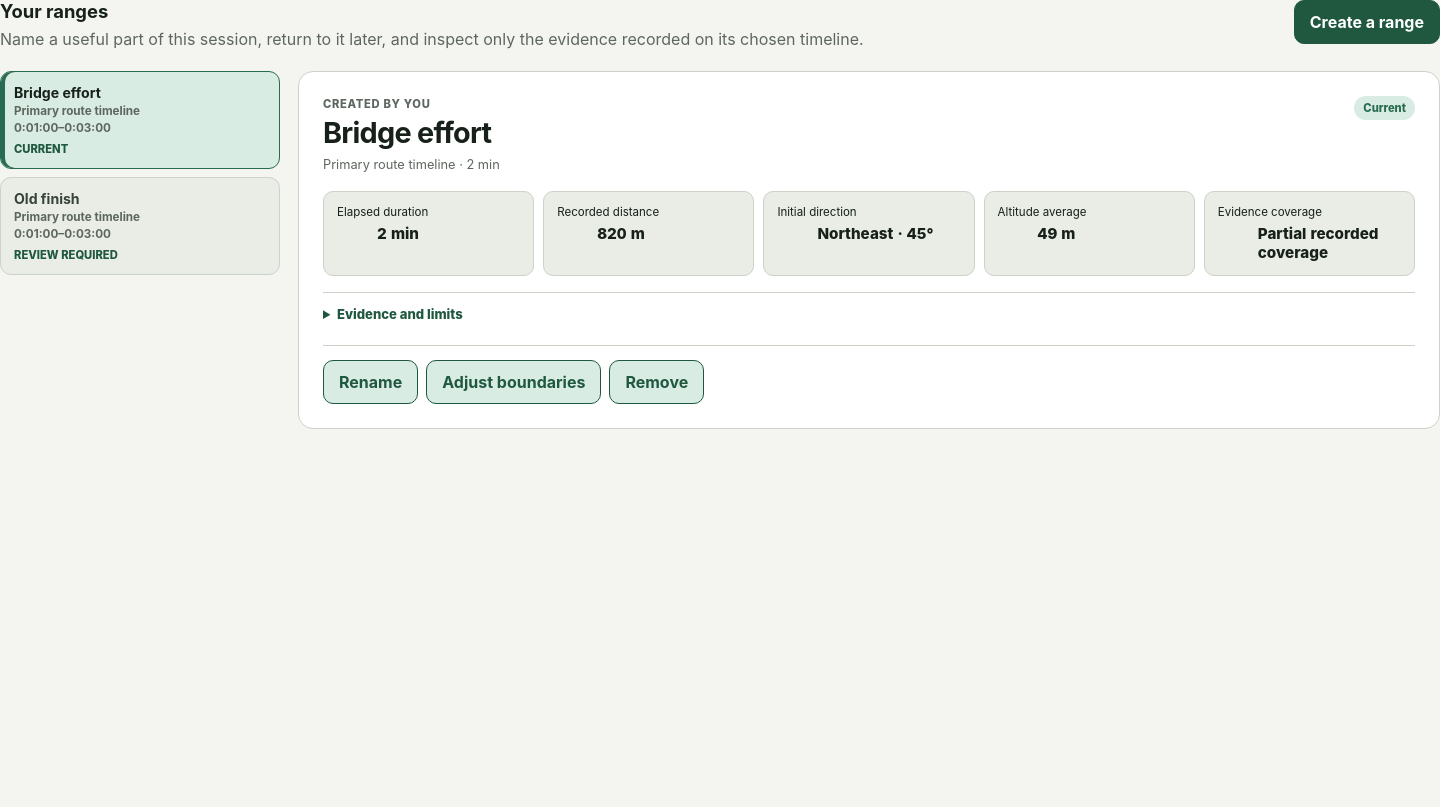
it: TrainingRangesPanel › opens a concise result first and reveals exact evidence only on request
The width and height of the screenshot is (1440, 807).
Expected: the heading "Bridge effort" is shown, [323,117,500,149]
Expected: the text "2 min" is shown, [377,224,419,243]
Click the heading "Evidence and limits" at (400, 314), box [337,306,463,322]
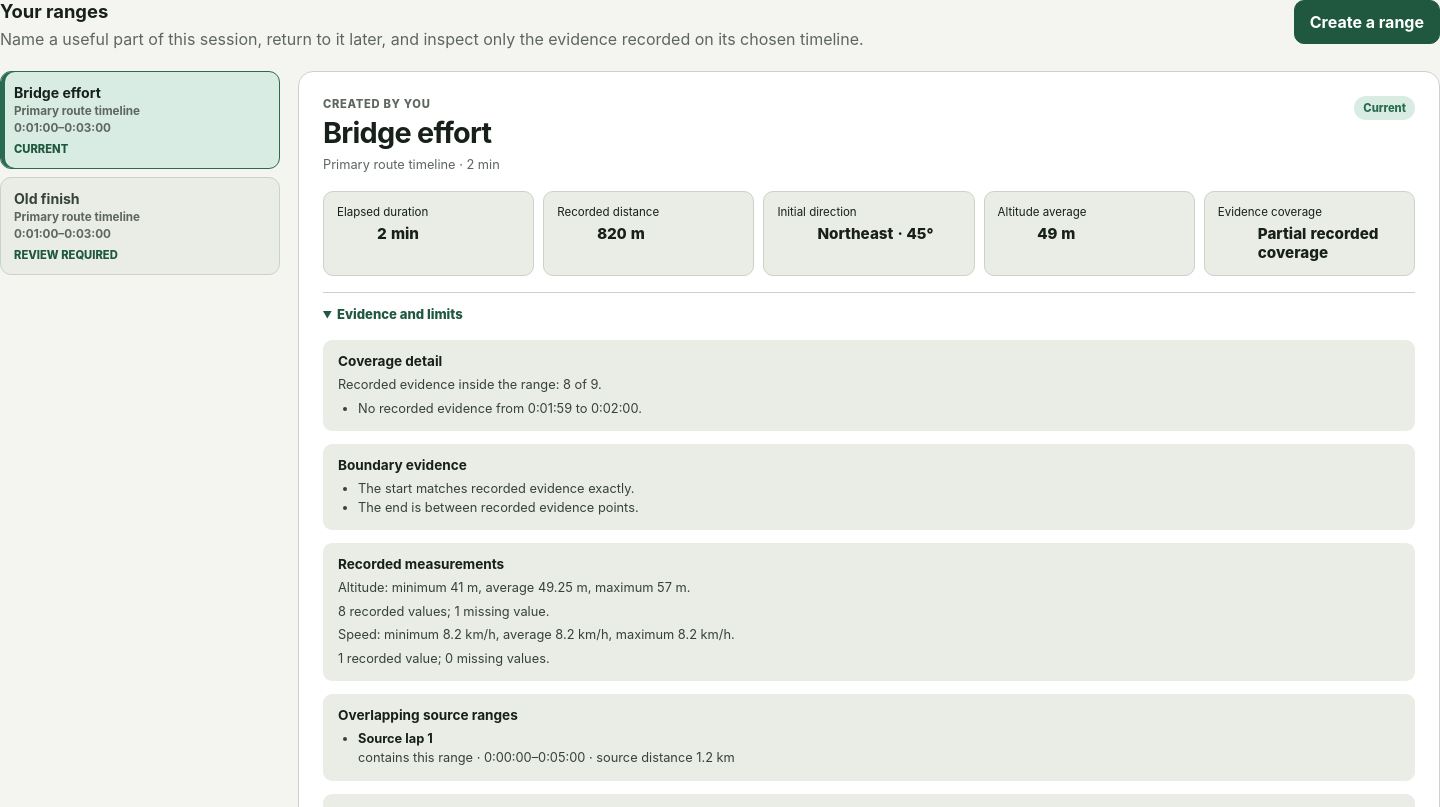
Now the text "Source lap 1" is shown, box [358,731,433,746]
Now the text "Recorded evidence inside the range: 8 of 9." is shown, box [338,377,602,392]
Now the list item "No recorded evidence from 0:01:59 to 0:02:00." is shown, box [358,401,642,416]
Click the button with aria-label "Open Old finish" at (140, 226), box [0,177,280,275]
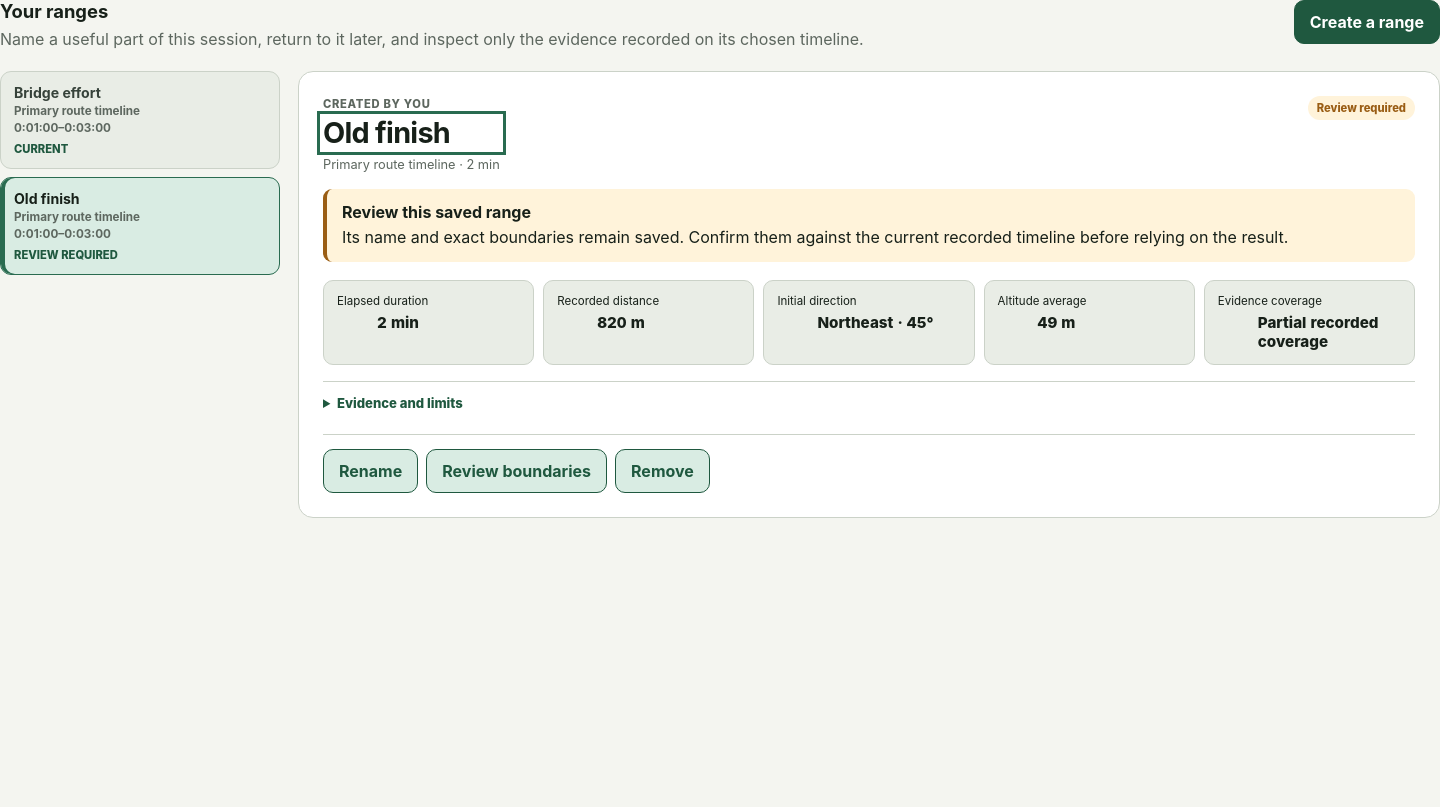
Now the heading "Old finish" is shown, box [323,115,450,150]
Now the text "Review this saved range" is shown, box [342,202,531,222]
